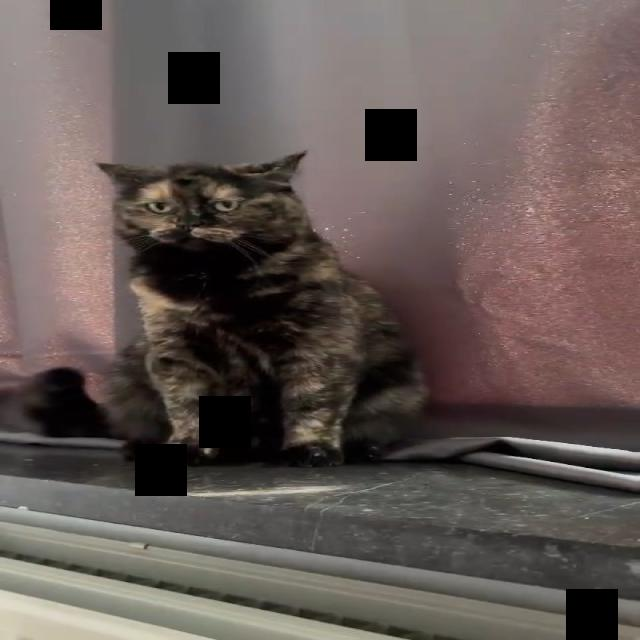authorized: (93, 149, 431, 468)
